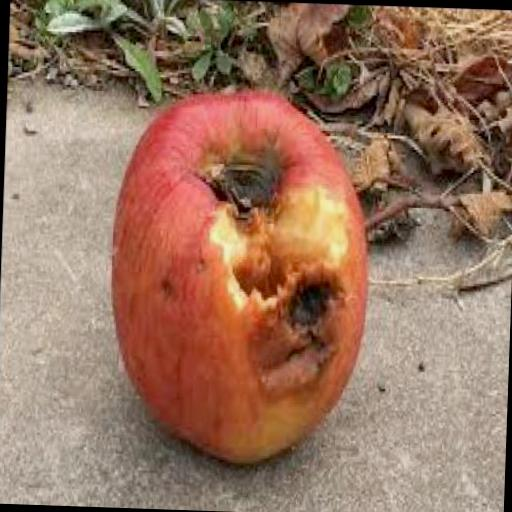biodegradable: (106, 80, 376, 465)
